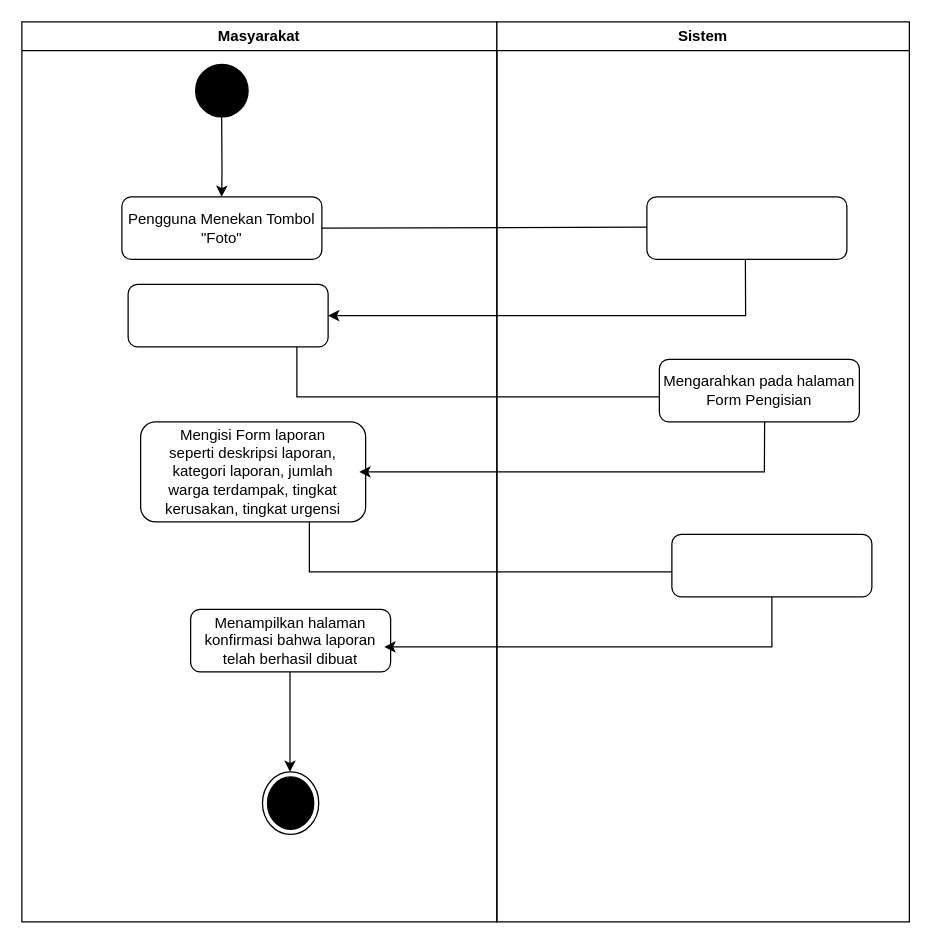
This 931x944 diagram has some shape labels left out. Each missing label, with the box of its shape:
Mengarahkan pada halaman foto: (646, 196, 847, 259)
Menyimpan Laporan ke database: (671, 533, 872, 597)
Pengguna Memfoto Laporan/Kejadian: (127, 283, 328, 347)
